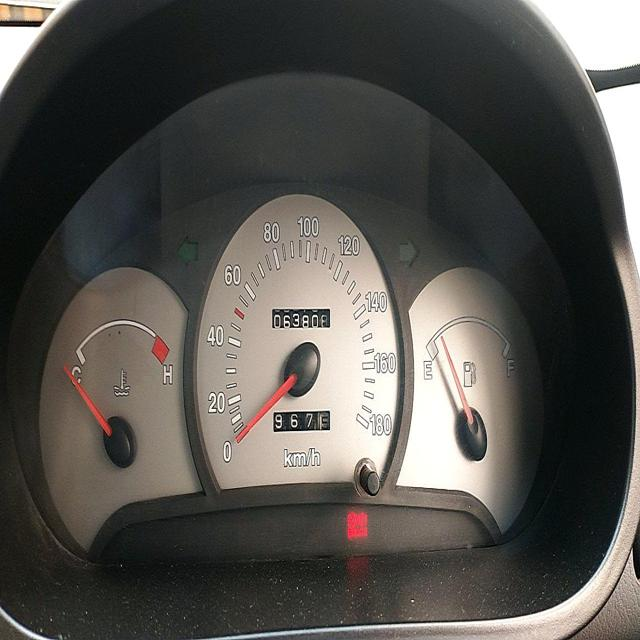odometer: (272, 308, 330, 329)
